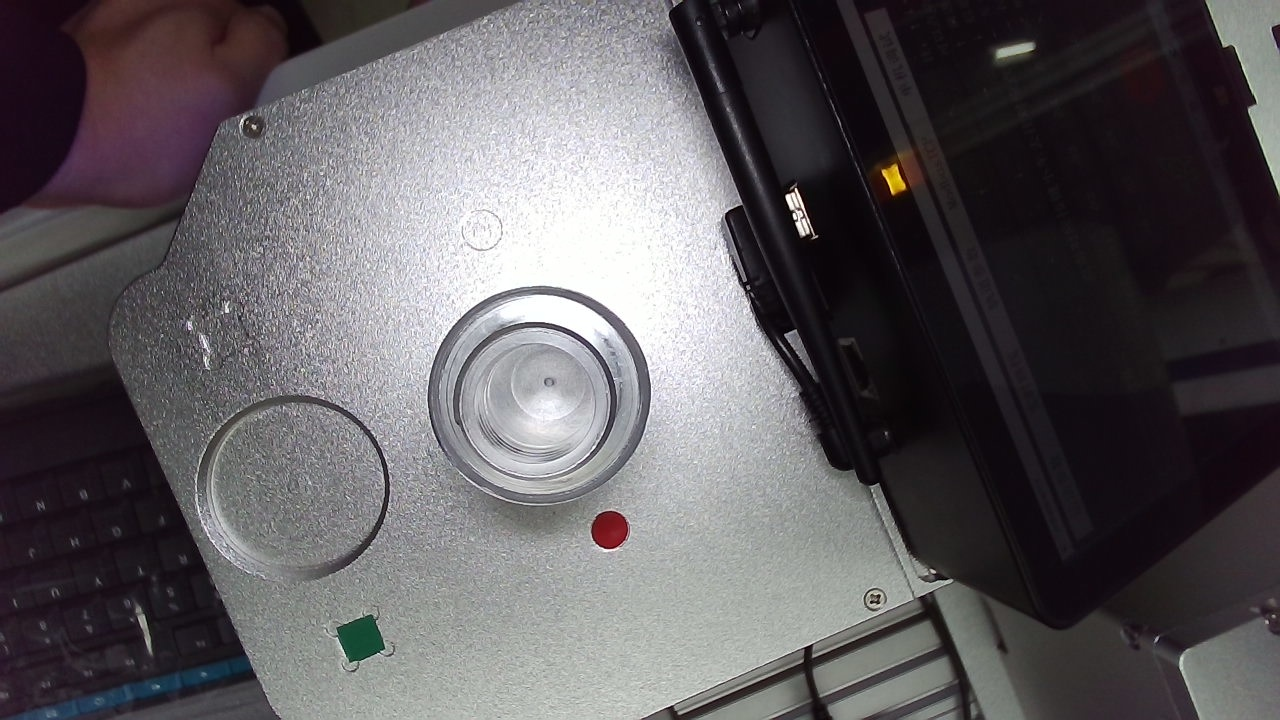XLabel: (457, 81, 524, 147)
YLabel: (890, 89, 958, 160)
none: (767, 214, 1106, 551), (315, 217, 649, 549)
